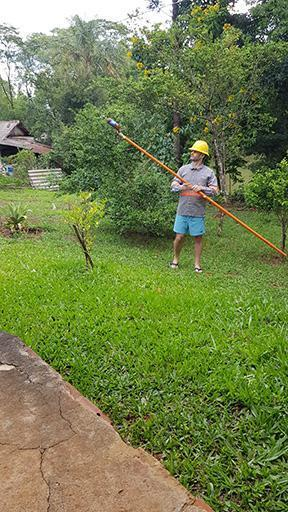helmet: (189, 139, 211, 163)
